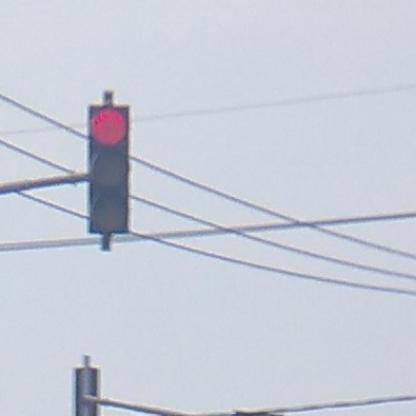red: (88, 106, 130, 235)
